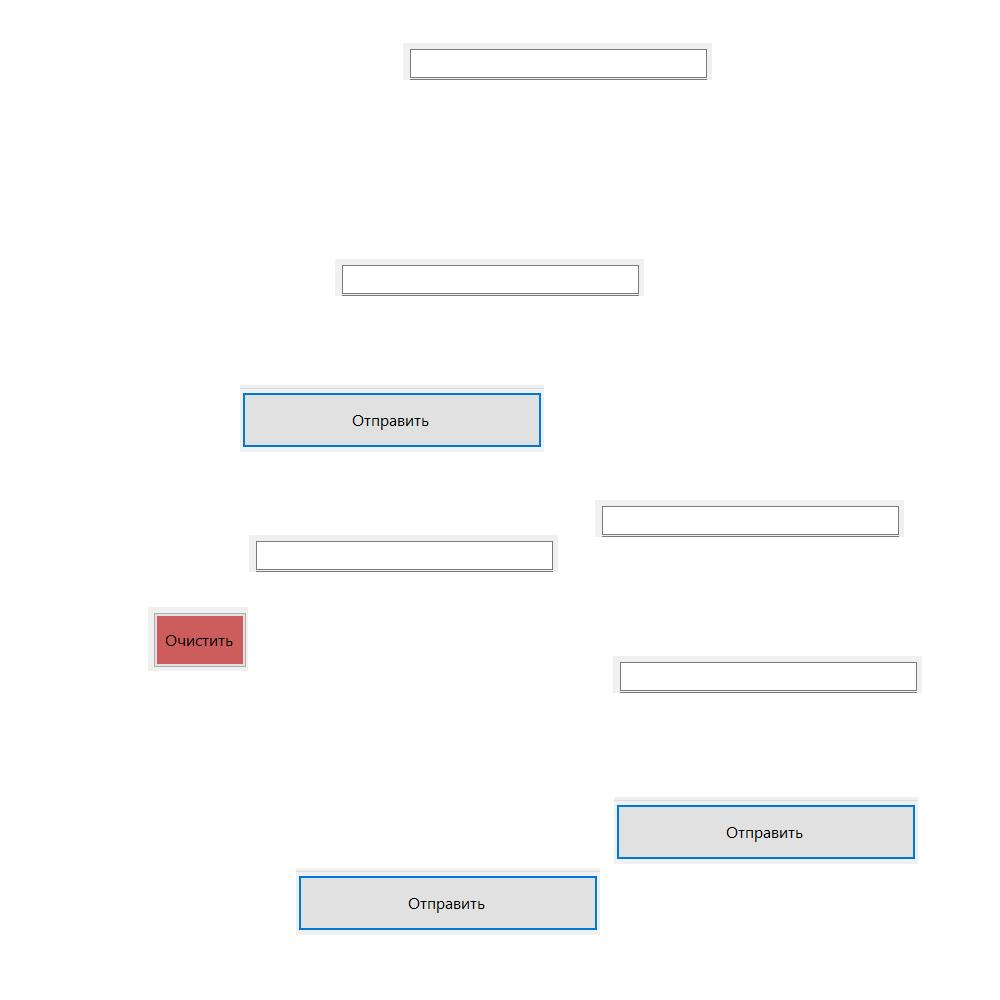Button: (296, 868, 600, 935), (614, 797, 918, 864), (240, 385, 544, 452), (148, 607, 248, 671)
EditText-: (595, 500, 904, 537), (403, 43, 712, 80), (613, 656, 922, 693), (249, 535, 558, 572), (335, 259, 644, 296)
